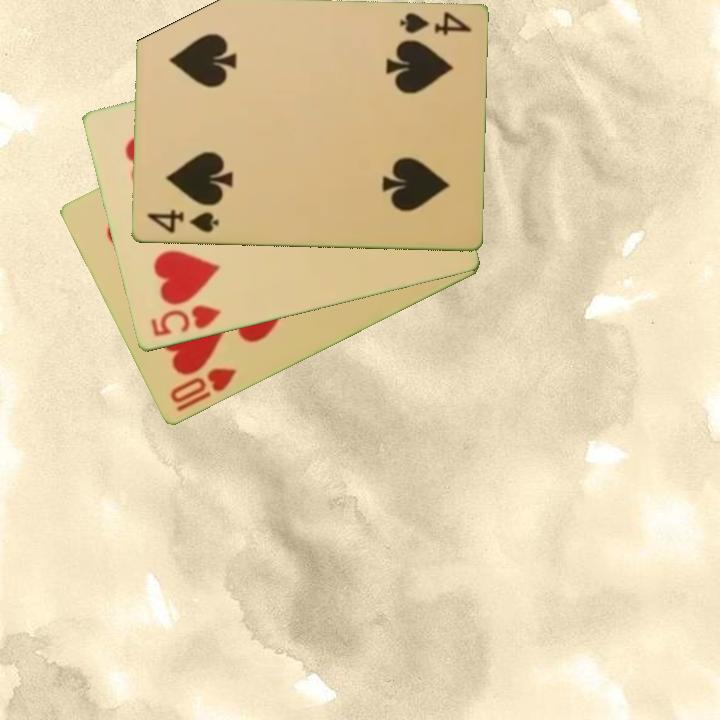10h: (166, 364, 240, 407)
4s: (143, 206, 222, 236), (396, 8, 474, 38)
5h: (147, 302, 224, 340)
